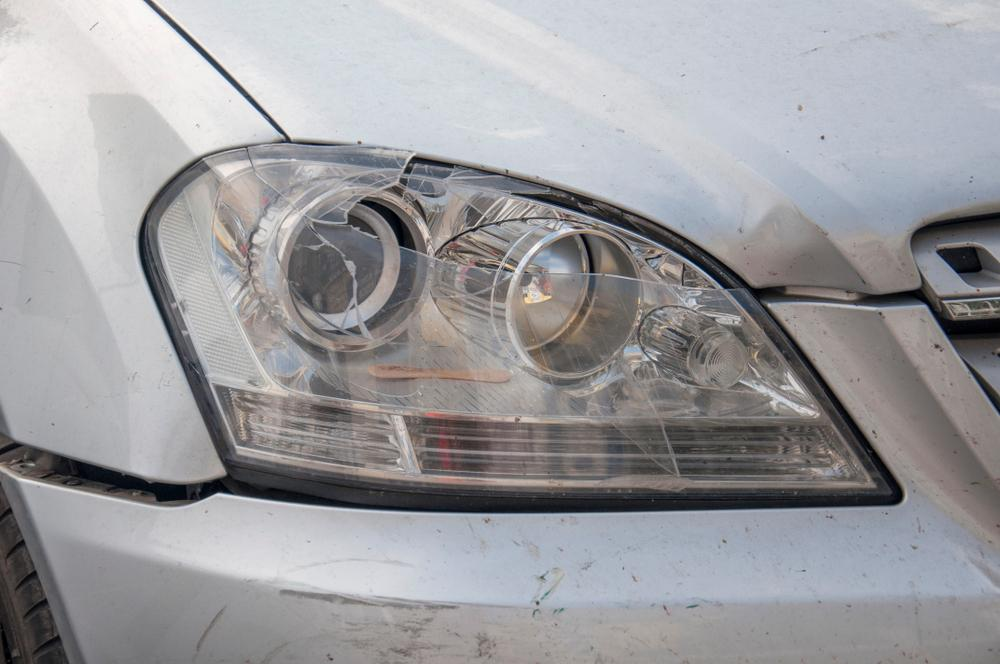lamp broken: (147, 144, 901, 513)
scratch: (176, 546, 545, 664)
